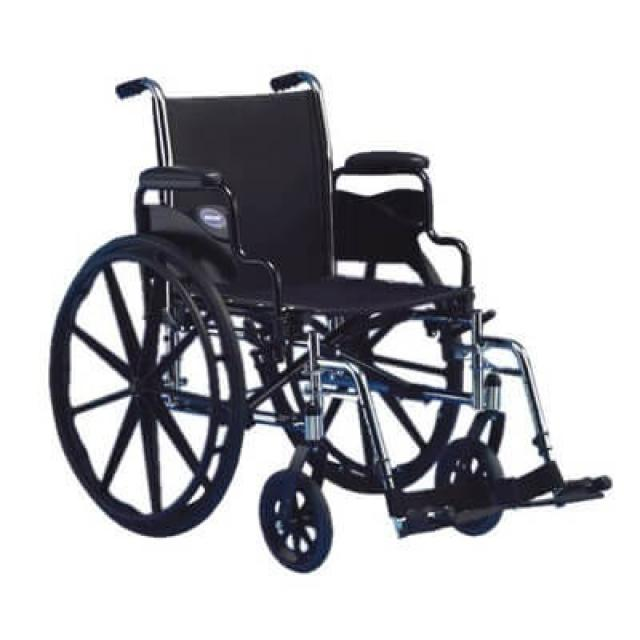wheelchair: (43, 62, 640, 578)
